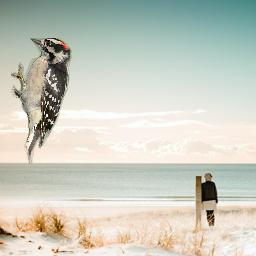Woodpecker: (11, 38, 73, 164)
